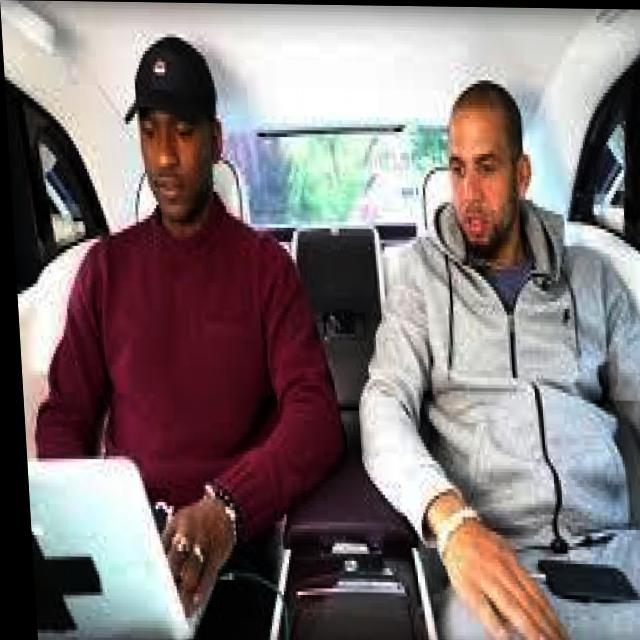noSeatbelt: (60, 187, 285, 499), (401, 211, 614, 518)
